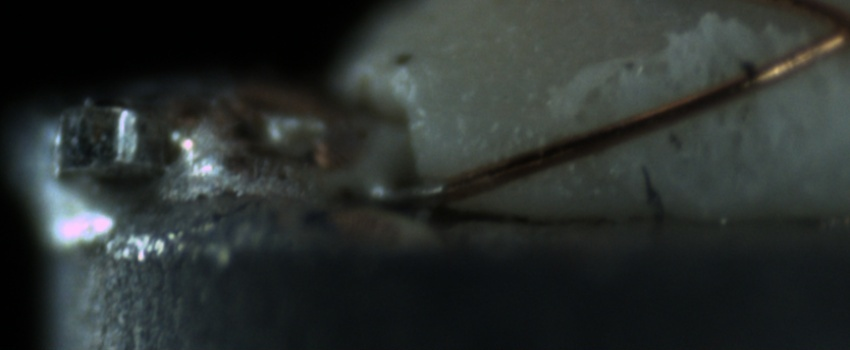CL: (804, 1, 850, 63)
TS: (381, 181, 449, 214)
